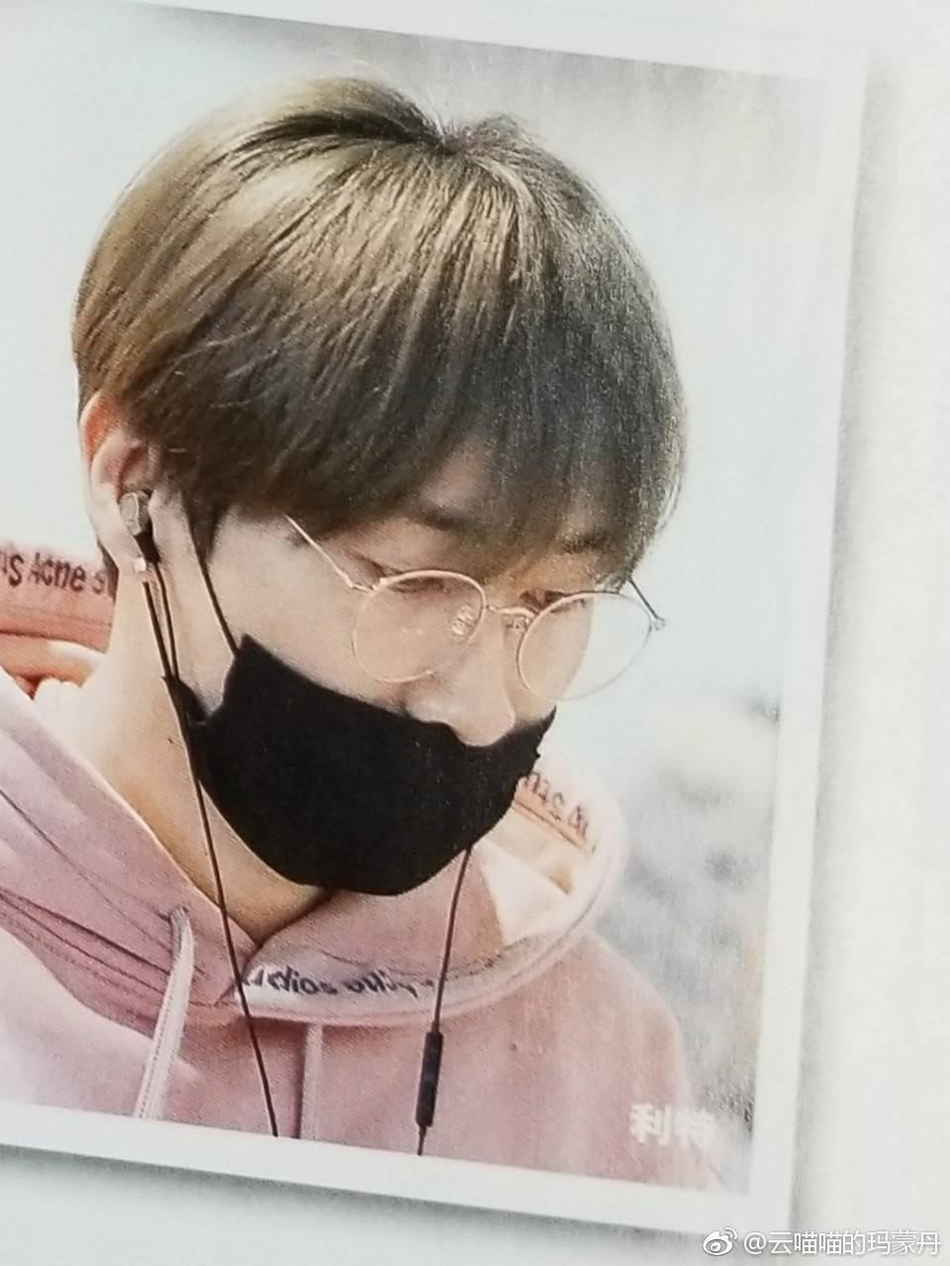WRONG: (200, 437, 602, 887)
